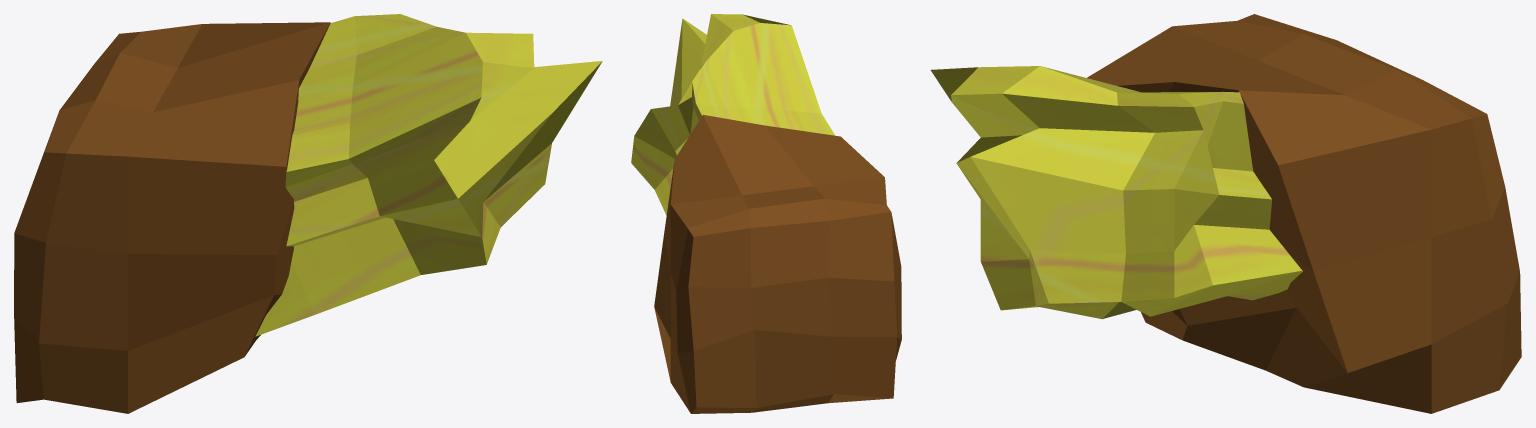
The model's file is SulphurRock.glb.
The picture shows the model from 3 angles, left to right: view 1: azimuth 30°, elevation 25°; view 2: azimuth 150°, elevation 25°; view 3: azimuth 270°, elevation 25°; orthographic projection. The views are drawn at different scales.
Visible parts, largest first — view 1: Cube; view 2: Cube; view 3: Cube.
Boxes of the visible parts, <box> form: Cube: <box>14,14,602,413</box>; Cube: <box>631,14,901,413</box>; Cube: <box>930,14,1521,413</box>.
Bounding box in the file's own units: 3.22 × 2.57 × 3.32.
2 materials, 1 textured.
